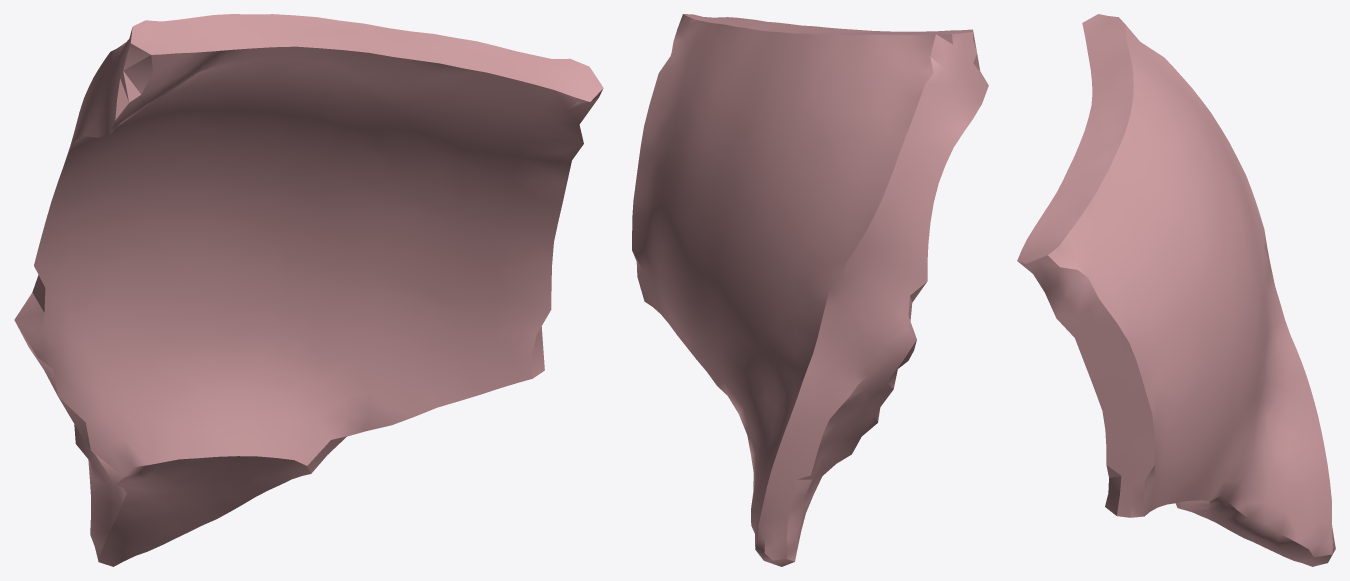
File: fma78480-r_mm3097m.glb
3 views of the same model, side by side, from view 1: azimuth 30°, elevation 25°; view 2: azimuth 150°, elevation 25°; view 3: azimuth 270°, elevation 25° (orthographic). The views are drawn at different scales.
Visible parts, largest first — view 1: FMA78480-R_MM3097M; view 2: FMA78480-R_MM3097M; view 3: FMA78480-R_MM3097M.
Boxes of the visible parts, x1,y1,x2,y2 form: FMA78480-R_MM3097M: (14, 14, 603, 566); FMA78480-R_MM3097M: (632, 14, 988, 566); FMA78480-R_MM3097M: (1017, 14, 1335, 566).
Bounding box in the file's own units: 0.00425 × 0.00598 × 0.00339.
